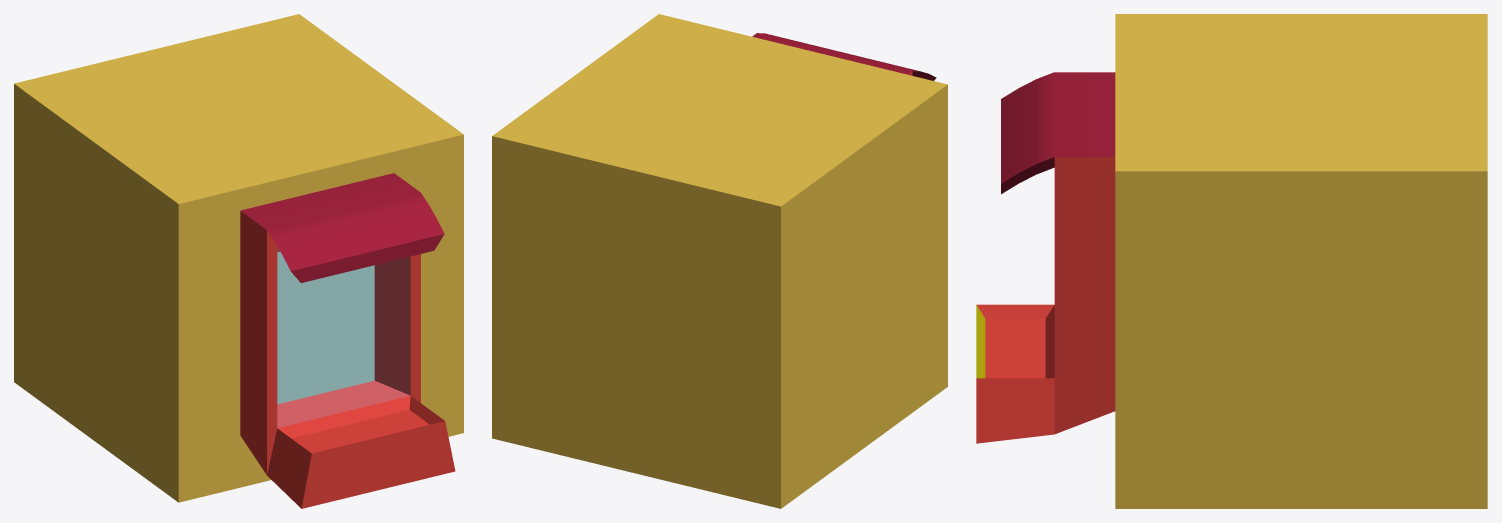
Rendered from 1Middle Block yellowred.fbx.
3 views of the same model, side by side, from view 1: azimuth 30°, elevation 25°; view 2: azimuth 150°, elevation 25°; view 3: azimuth 270°, elevation 25° (orthographic). The views are drawn at different scales.
Parts seen in each view (by area): view 1: pCube23, pCube22; view 2: pCube23, pCube22; view 3: pCube23, pCube22.
Part boxes in pixels (x1,y1,x2,y2): pCube23: (14,14,463,502); pCube22: (240,173,455,508); pCube23: (492,14,947,508); pCube22: (752,33,936,80); pCube23: (1115,14,1487,508); pCube22: (976,72,1115,443).
Size of the model in its own units: 2 by 2 by 2.75.
